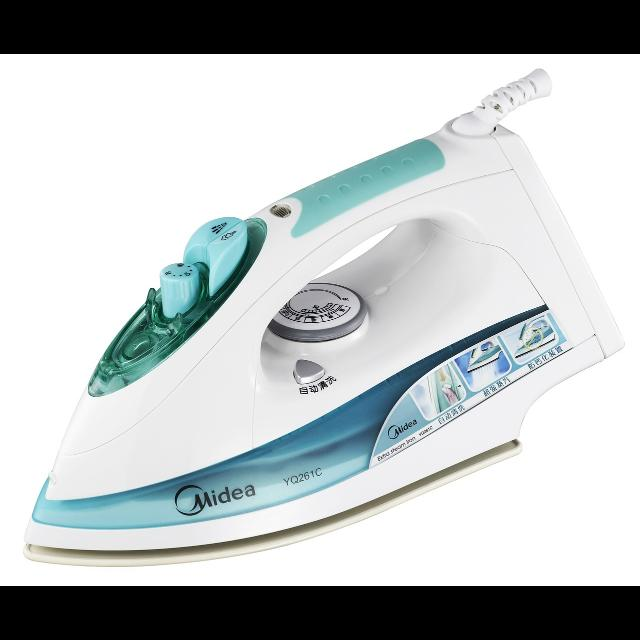Clothes-Iron: (111, 128, 509, 524)
